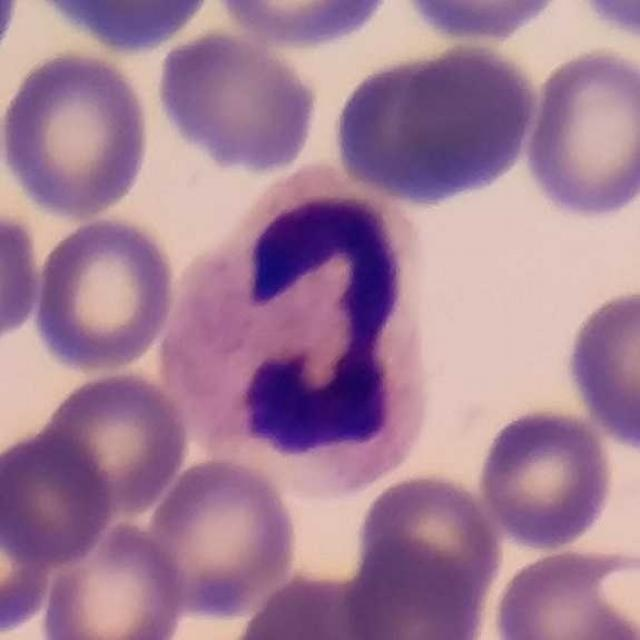Neutrophil: (156, 173, 449, 491)
RBC: (329, 40, 546, 210), (0, 48, 155, 220), (142, 454, 300, 618), (154, 28, 322, 176), (28, 213, 180, 374), (38, 368, 192, 516), (473, 404, 618, 553), (352, 470, 505, 611), (520, 46, 640, 222), (37, 518, 188, 640), (1, 425, 117, 569), (336, 542, 493, 640), (488, 542, 640, 640), (560, 283, 640, 456), (23, 0, 230, 57), (230, 570, 392, 640), (210, 0, 398, 51), (0, 482, 58, 637), (393, 0, 572, 45), (0, 204, 46, 350), (568, 0, 639, 47)
